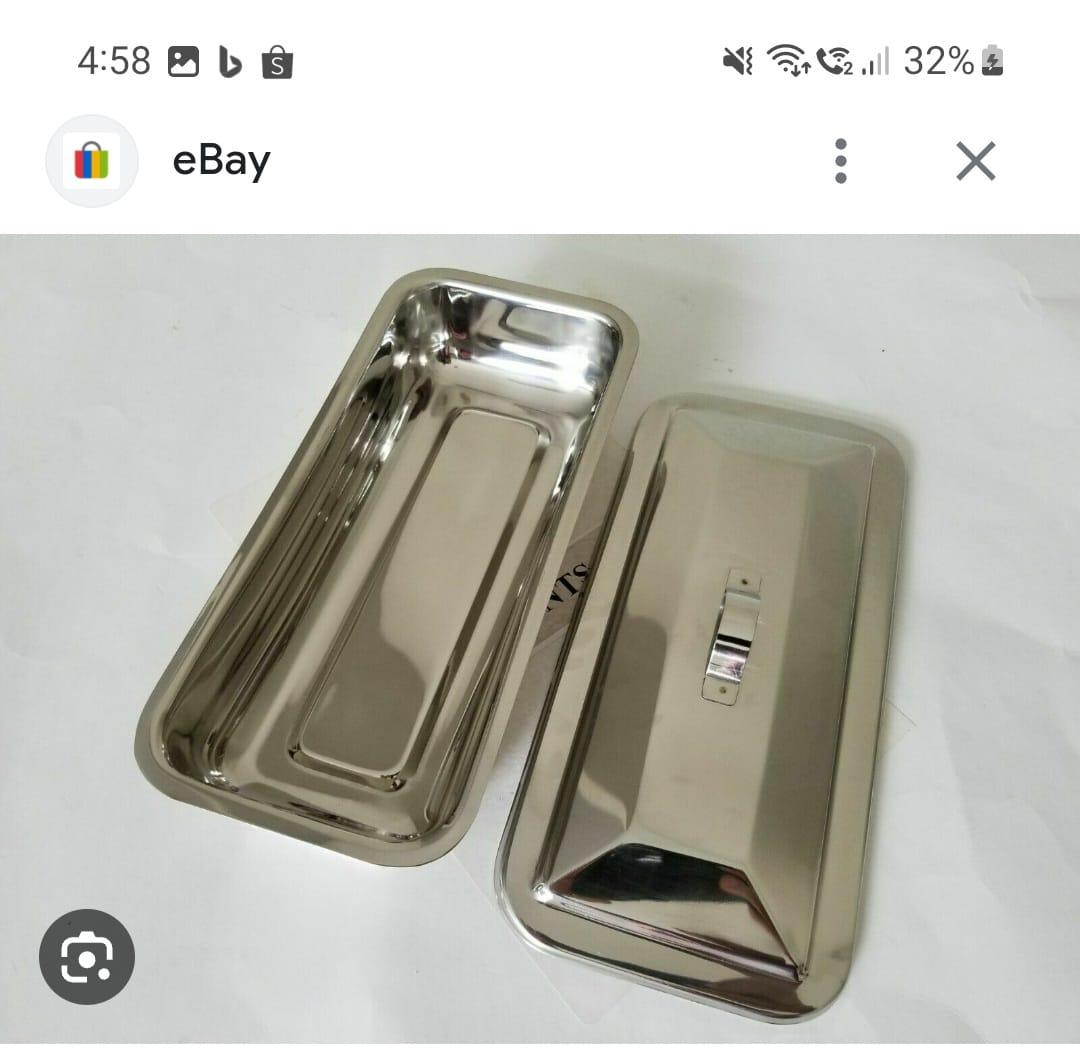Catheter Tray: (120, 255, 643, 882)
